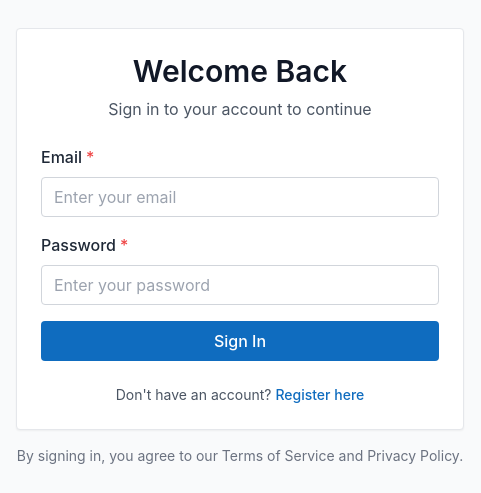
Test: LoginPage › Form Validation › should show error when password is empty
Type "test@example.com" into the field labelled "Email*". click: [240, 197]
box: [41,177,439,217]
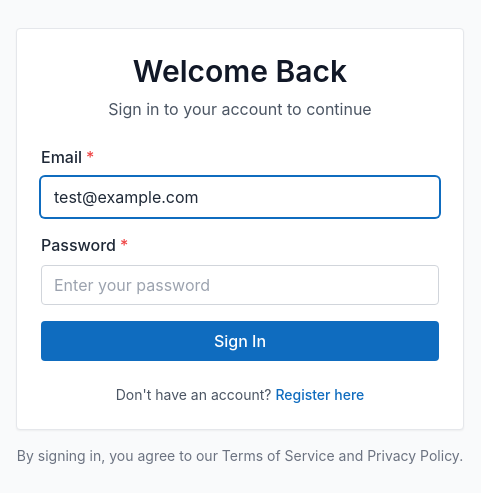
Click the button "Sign In". click: [240, 341]
box: [41,321,439,361]
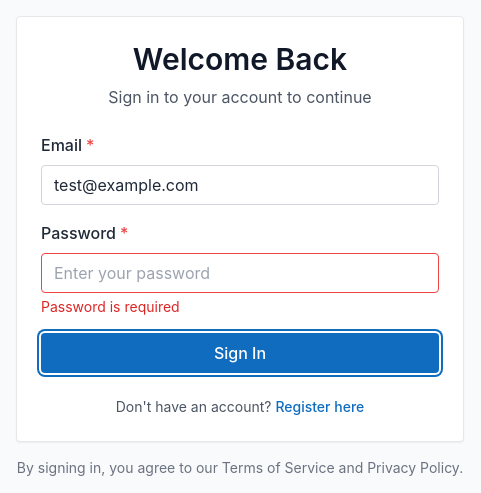
Expected: the text "Password is required" is shown, [41,298,180,315]
